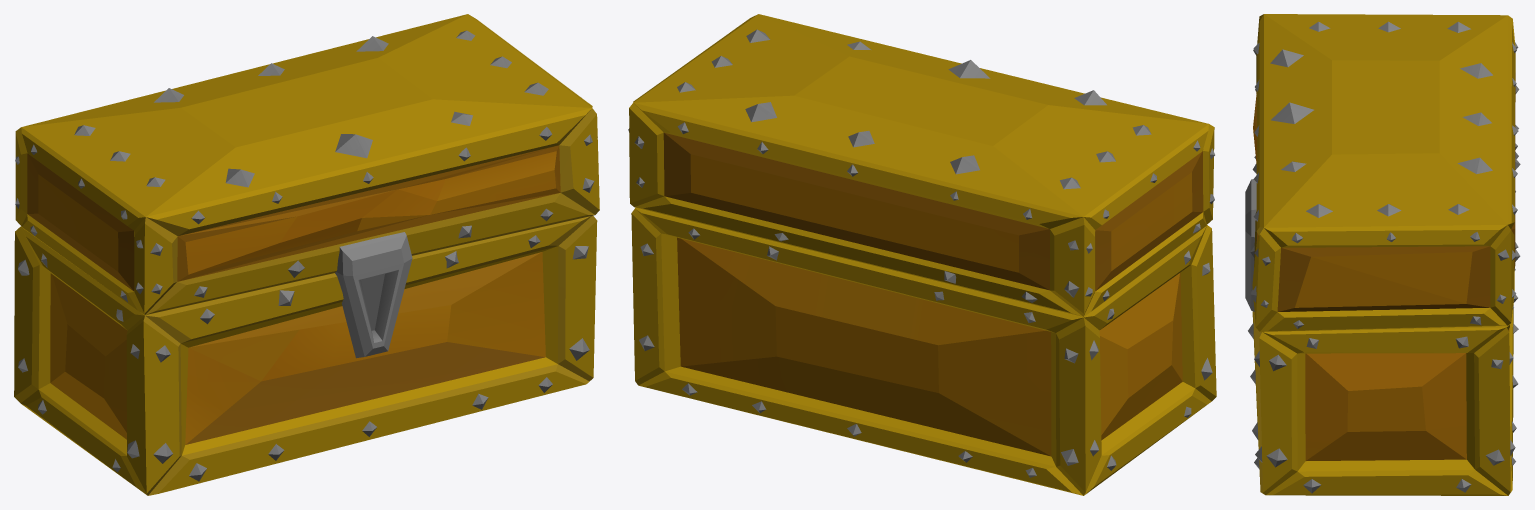
Rendered from Chest Plates.glb.
3 renders of one model, left to right at view 1: azimuth 30°, elevation 25°; view 2: azimuth 150°, elevation 25°; view 3: azimuth 270°, elevation 25°, orthographic. The views are drawn at different scales.
Visible parts, largest first — view 1: ChestPlates; view 2: ChestPlates; view 3: ChestPlates.
Part boxes in pixels (x1=…): ChestPlates: x1=14, y1=14, x2=599, y2=495; ChestPlates: x1=628, y1=14, x2=1216, y2=495; ChestPlates: x1=1245, y1=14, x2=1520, y2=495.
Size of what is drawn, in the model's own units: 1.47 by 0.8881 by 0.7626.
1 material, 1 textured.
